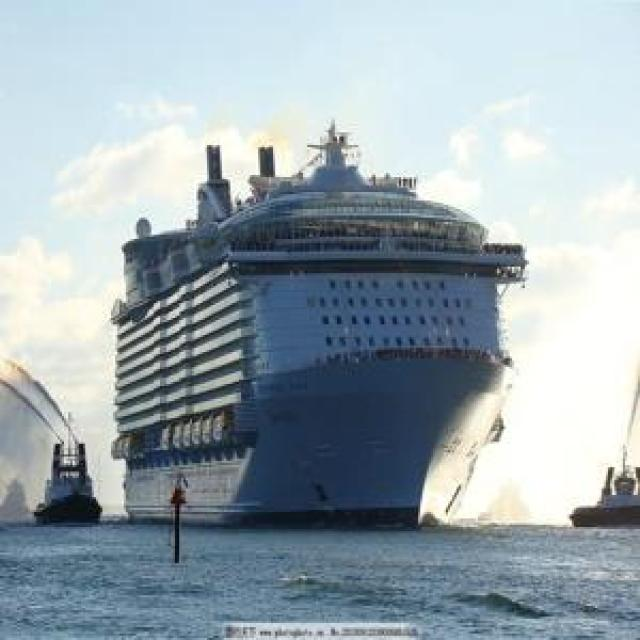passenger ship: (122, 117, 495, 523), (27, 428, 104, 519)
